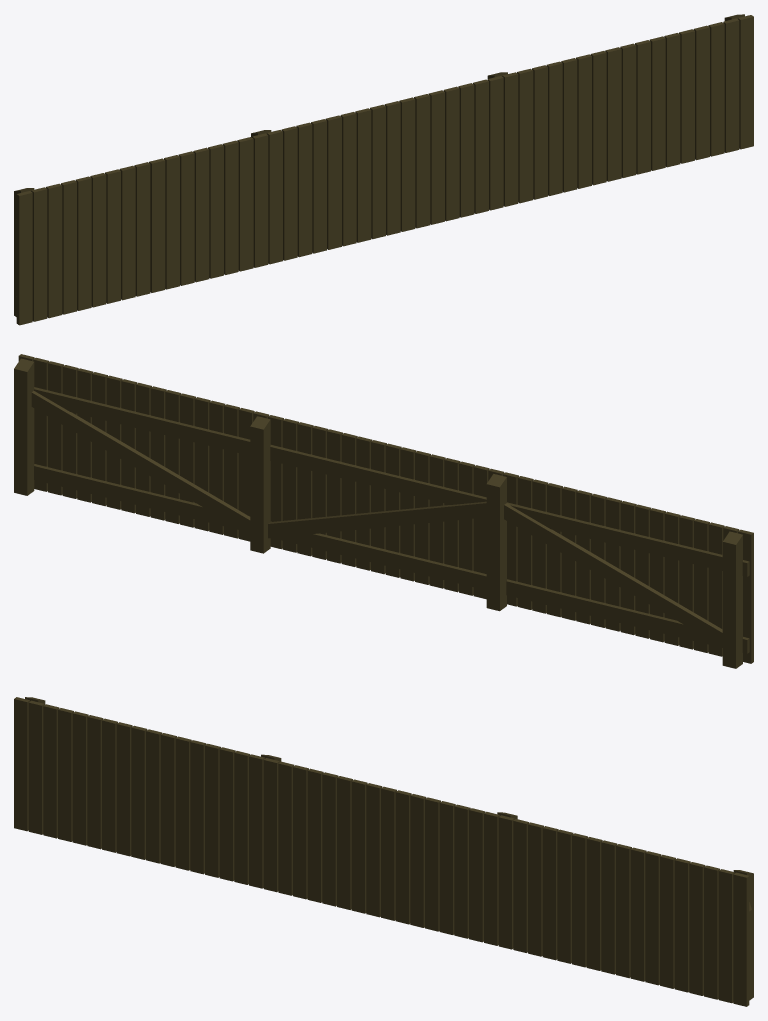
Rendered from AvoidtheHumoidFence.fbx.
3 renders of one model, top to bottom at view 1: azimuth 30°, elevation 25°; view 2: azimuth 150°, elevation 25°; view 3: azimuth 330°, elevation 25°, orthographic.
Visible parts, largest first — view 1: Panels.001, Posts.001; view 2: Panels.001, Horizontals.001, Posts.001, CrossL.001, CrossR.001, CrossM.001; view 3: Panels.001, Posts.001.
Part boxes in pixels (left/top/right/bottom): Panels.001: left=16, top=15, right=753, bottom=325; Posts.001: left=14, top=14, right=744, bottom=316; Panels.001: left=18, top=354, right=753, bottom=663; Horizontals.001: left=34, top=387, right=749, bottom=653; Posts.001: left=14, top=358, right=742, bottom=668; CrossL.001: left=31, top=391, right=250, bottom=534; CrossR.001: left=504, top=503, right=722, bottom=646; CrossM.001: left=268, top=501, right=486, bottom=538; Panels.001: left=14, top=697, right=749, bottom=1006; Posts.001: left=25, top=697, right=753, bottom=1000.
Bounding box in the file's own units: 1806 × 304 × 49.58.
